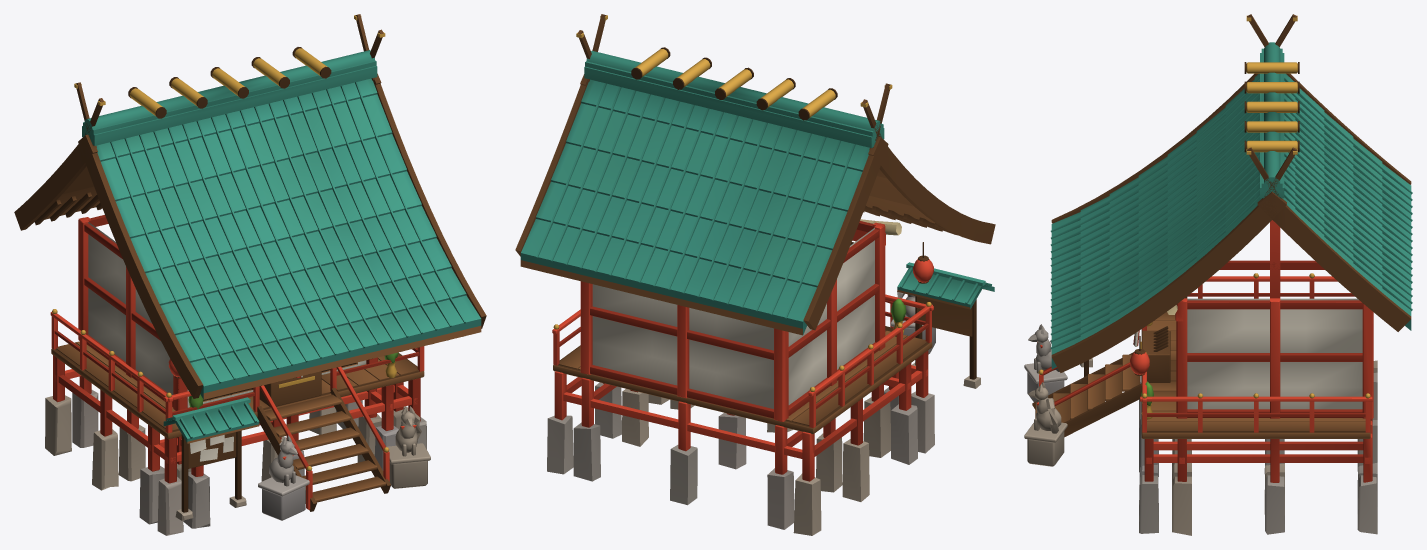
Rendered from shrine.glb.
3 views of the same model, side by side, from view 1: azimuth 30°, elevation 25°; view 2: azimuth 150°, elevation 25°; view 3: azimuth 270°, elevation 25° (orthographic). The views are drawn at different scales.
Visible parts, largest first — view 1: Shrine Copper roof, Shrine Wood, Shrine Plaster, Shrine Vermilion, Shrine Brass; view 2: Shrine Copper roof, Shrine Plaster, Shrine Vermilion, Shrine Wood, Shrine Brass; view 3: Shrine Copper roof, Shrine Plaster, Shrine Wood, Shrine Vermilion, Shrine Brass.
Boxes of the visible parts, x1,y1,x2,y2 form: Shrine Copper roof: [82, 50, 481, 442]; Shrine Wood: [14, 14, 486, 512]; Shrine Plaster: [45, 222, 430, 535]; Shrine Vermilion: [50, 215, 424, 509]; Shrine Brass: [52, 15, 396, 471]; Shrine Copper roof: [520, 50, 994, 334]; Shrine Plaster: [547, 219, 980, 535]; Shrine Vermilion: [552, 221, 933, 481]; Shrine Wood: [515, 14, 995, 434]; Shrine Brass: [553, 15, 931, 391]; Shrine Copper roof: [1050, 42, 1412, 369]; Shrine Plaster: [1024, 298, 1377, 535]; Shrine Wood: [1032, 14, 1411, 438]; Shrine Vermilion: [1037, 220, 1373, 482]; Shrine Brass: [1038, 15, 1370, 419].
Bounding box in the file's own units: 5.74 × 7.46 × 6.7.
